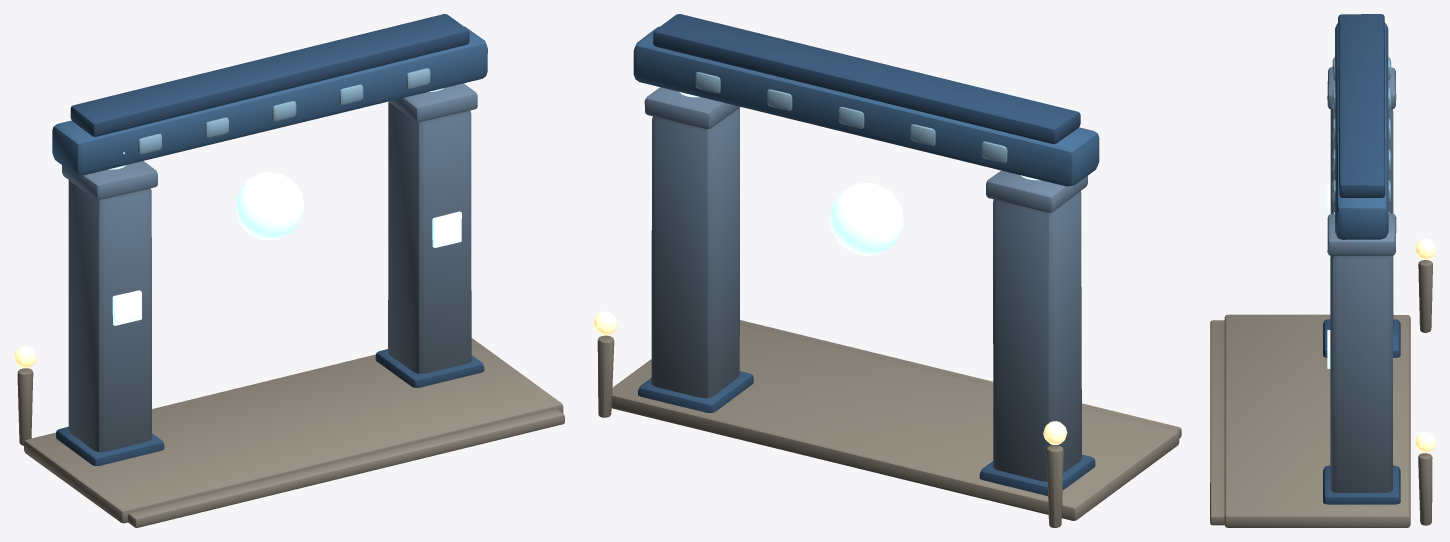
The picture shows the model from 3 angles, left to right: view 1: azimuth 30°, elevation 25°; view 2: azimuth 150°, elevation 25°; view 3: azimuth 270°, elevation 25°; orthographic projection. The views are drawn at different scales.
Parts seen in each view (by area): view 1: gate_75c67296; view 2: gate_75c67296; view 3: gate_75c67296.
Boxes of the visible parts, x1,y1,x2,y2 form: gate_75c67296: [14, 14, 564, 527]; gate_75c67296: [593, 14, 1181, 527]; gate_75c67296: [1210, 14, 1435, 527].
Bounding box in the file's own units: 5.41 × 4.11 × 2.54.
